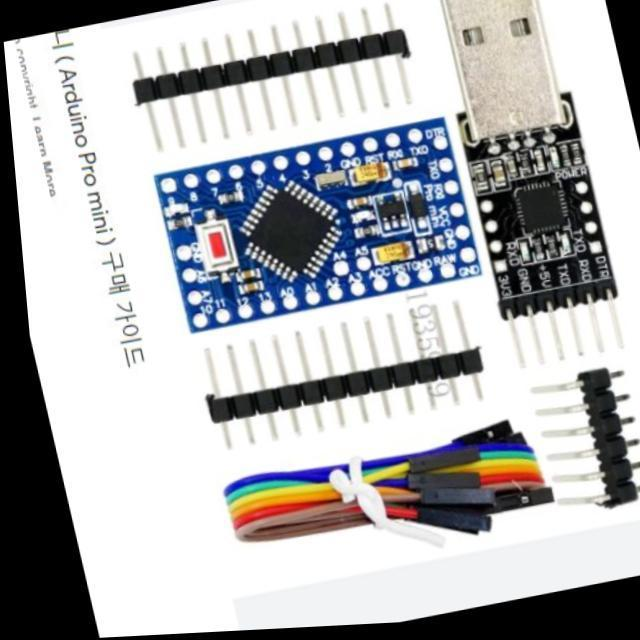Arduino-ProMini: (157, 119, 481, 334)
